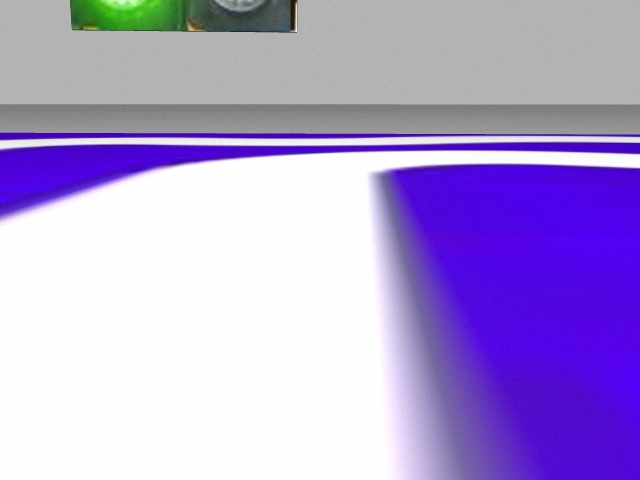green: (70, 1, 186, 32)
